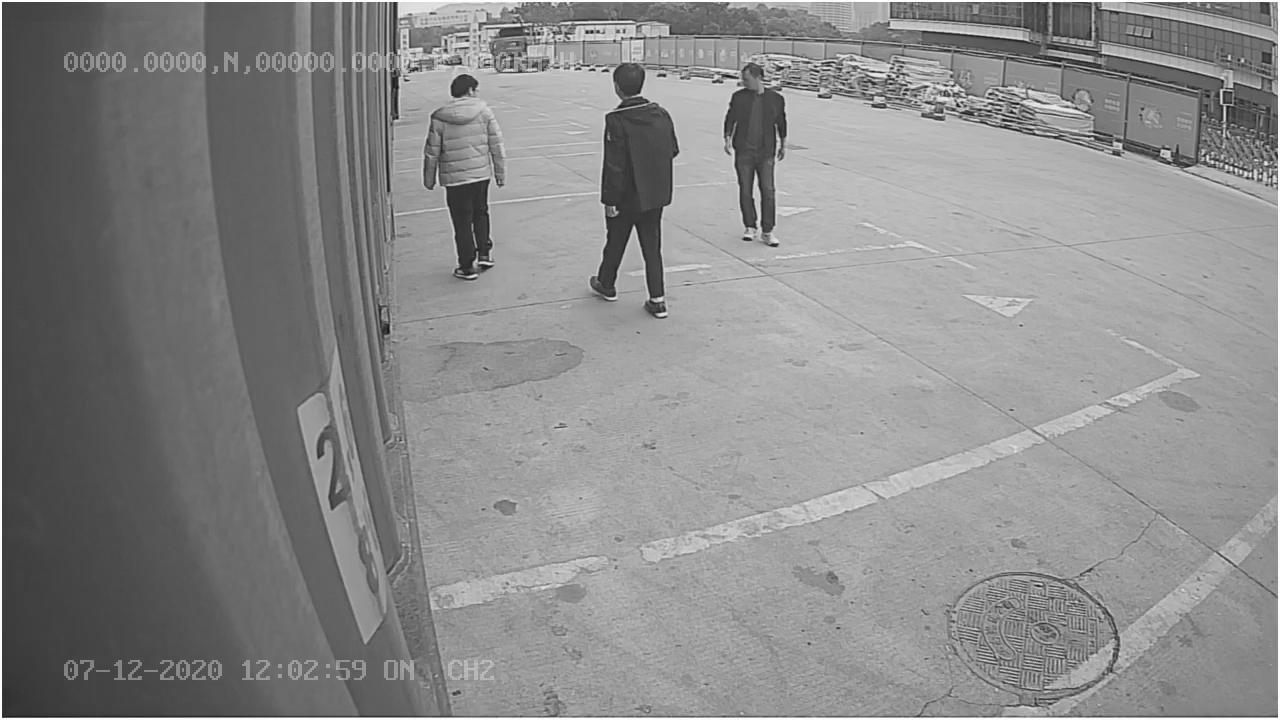person: (585, 58, 684, 318)
